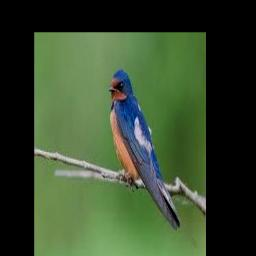Swallow: (108, 71, 181, 229)
